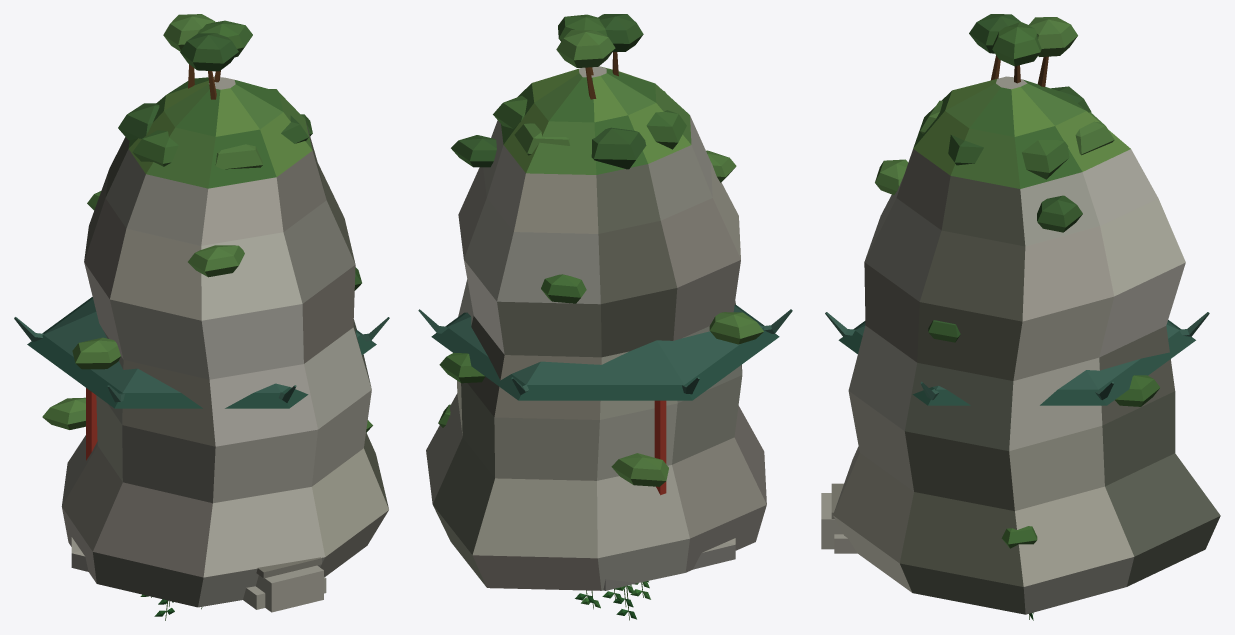
File: karst.glb
3 renders of one model, left to right at view 1: azimuth 30°, elevation 25°; view 2: azimuth 150°, elevation 25°; view 3: azimuth 270°, elevation 25°, orthographic. The views are drawn at different scales.
Visible parts, largest first — view 1: karst_karst_tower_a, karst_pavilion_a; view 2: karst_karst_tower_a, karst_pavilion_a, karst_fern_curtain_b; view 3: karst_karst_tower_a, karst_pavilion_a.
Part boxes in pixels (left/top/right/bottom): karst_karst_tower_a: left=42, top=14, right=388, bottom=612; karst_pavilion_a: left=14, top=297, right=389, bottom=609; karst_karst_tower_a: left=426, top=14, right=766, bottom=590; karst_pavilion_a: left=418, top=304, right=792, bottom=590; karst_fern_curtain_b: left=575, top=581, right=650, bottom=620; karst_karst_tower_a: left=821, top=14, right=1220, bottom=614; karst_pavilion_a: left=825, top=312, right=1209, bottom=553.
Size of the model in its own units: 2.75 by 4.83 by 2.9.
